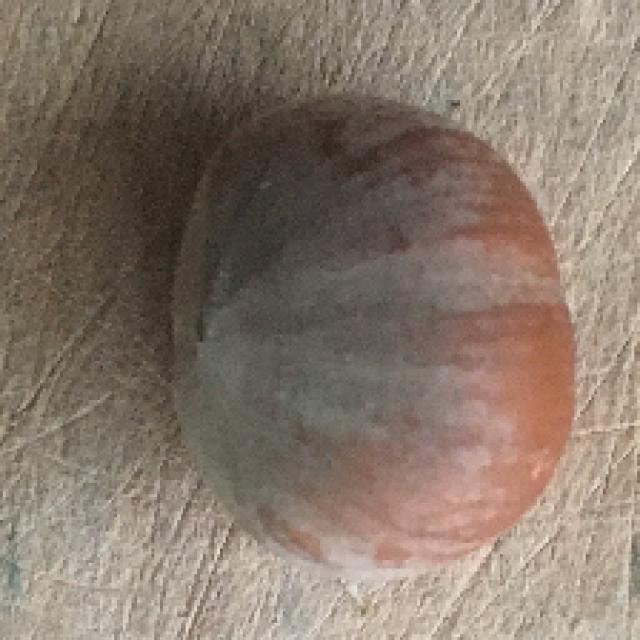QualityHazelnut: (166, 92, 578, 583)
